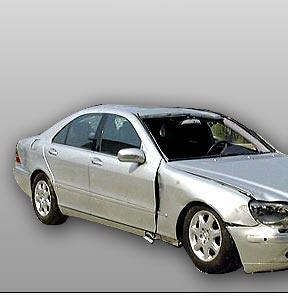Headlight-Damage: (243, 197, 287, 229)
fender-dent: (156, 181, 243, 229)
roof-dent: (101, 102, 228, 120)
